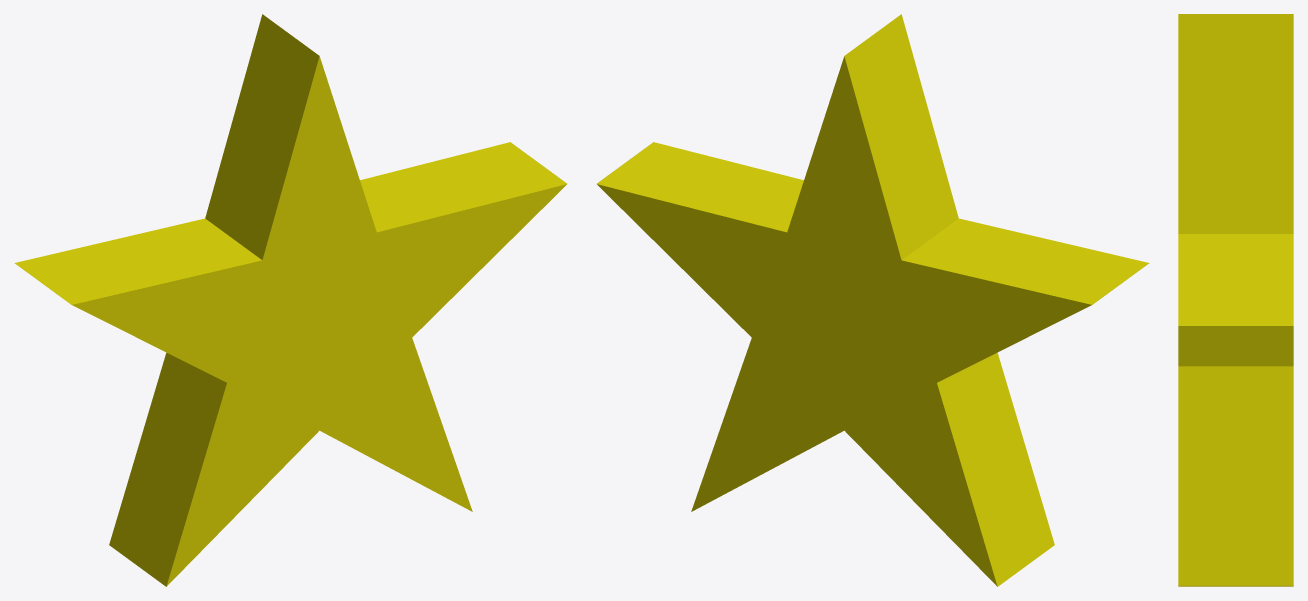
The model's file is Star.fbx.
The picture shows the model from 3 angles, left to right: view 1: azimuth 30°, elevation 25°; view 2: azimuth 150°, elevation 25°; view 3: azimuth 270°, elevation 25°; orthographic projection.
Visible parts, largest first — view 1: Star; view 2: Star; view 3: Star.
Boxes of the visible parts, x1,y1,x2,y2 form: Star: (14,14,566,586); Star: (597,14,1149,586); Star: (1178,14,1293,586).
Size of the model in its own units: 1 by 0.951 by 0.2.
